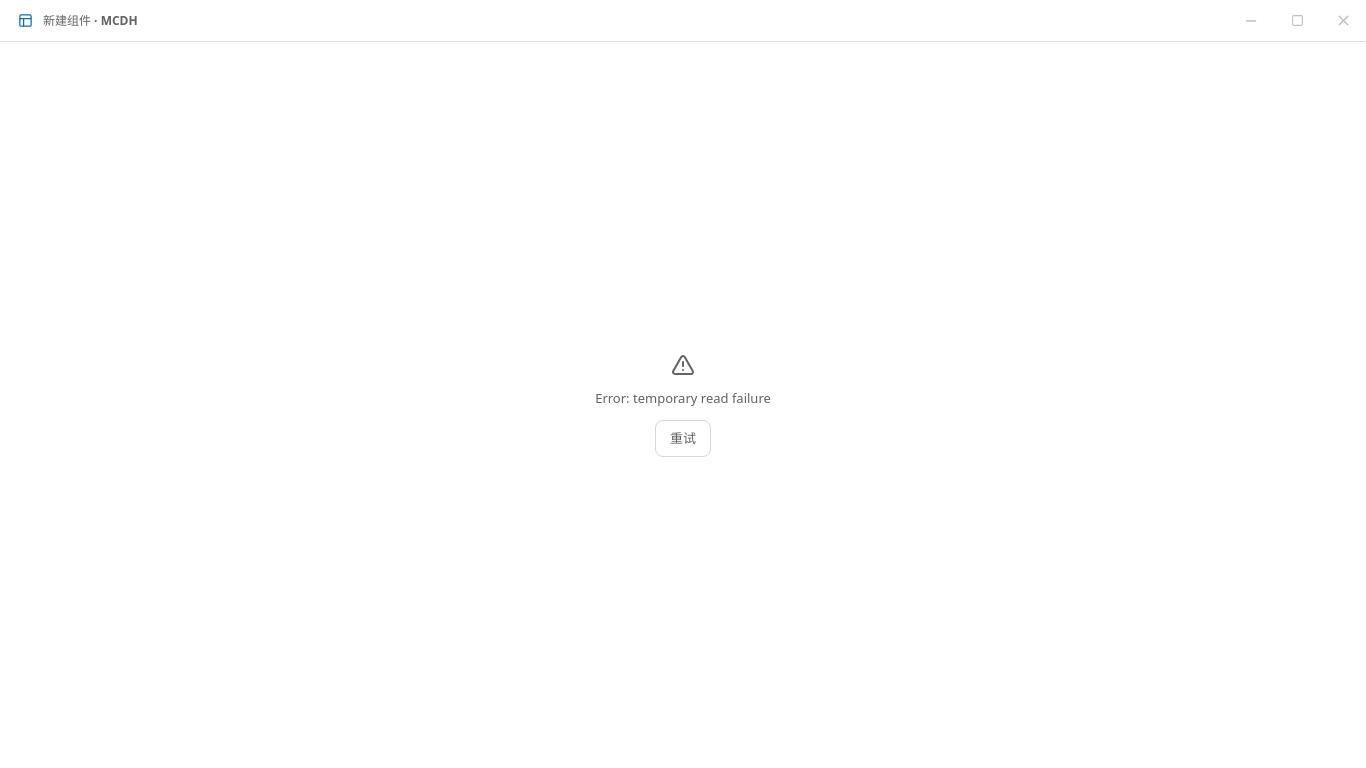
Test case: standalone dialog application › keeps load failures visible and supports retry
The width and height of the screenshot is (1366, 768).
expect the message shows "temporary read failure": met, box [595, 389, 771, 407]
Click the button "重试". click: (683, 439)
box: [655, 420, 711, 457]
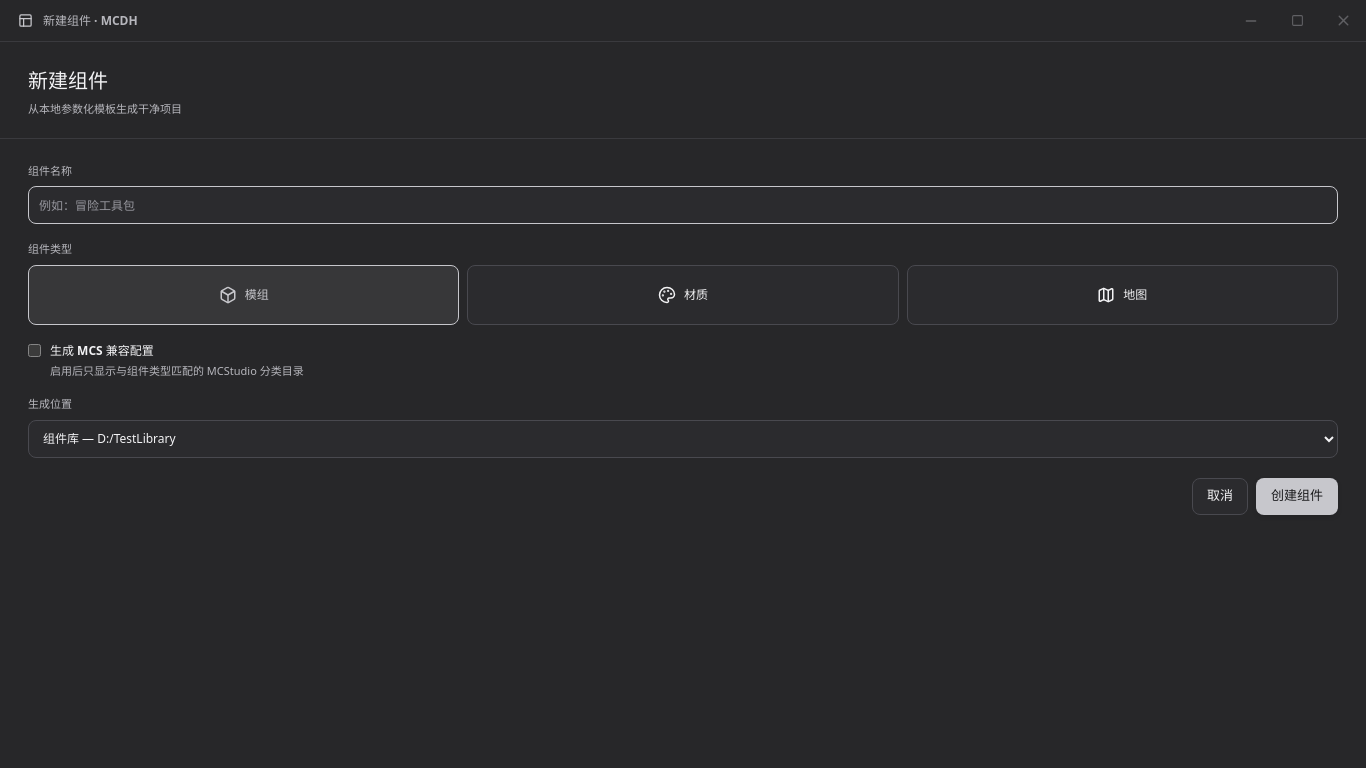
expect the field labelled "组件名称" is shown: met, box [28, 186, 1338, 224]
